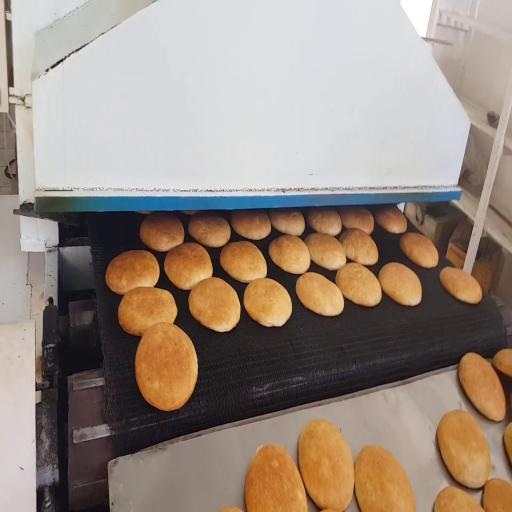bread: (135, 323, 197, 411), (299, 420, 354, 511), (437, 410, 490, 488), (245, 445, 307, 511), (355, 446, 415, 511), (459, 353, 506, 421), (118, 287, 177, 336), (189, 277, 240, 332), (244, 278, 292, 327), (106, 250, 159, 294), (164, 243, 212, 290), (296, 272, 343, 316), (336, 263, 381, 306), (220, 241, 266, 283), (379, 263, 422, 306), (140, 212, 184, 251), (269, 235, 310, 274), (440, 267, 482, 304), (305, 233, 346, 270), (189, 213, 230, 247), (340, 229, 378, 265), (400, 233, 438, 268), (434, 487, 483, 511), (232, 211, 271, 240), (268, 210, 305, 236), (307, 208, 341, 236), (339, 207, 374, 234), (483, 479, 511, 511), (375, 206, 407, 233), (493, 349, 511, 376), (504, 423, 511, 464), (219, 508, 241, 511), (182, 211, 197, 215), (137, 211, 152, 214)
